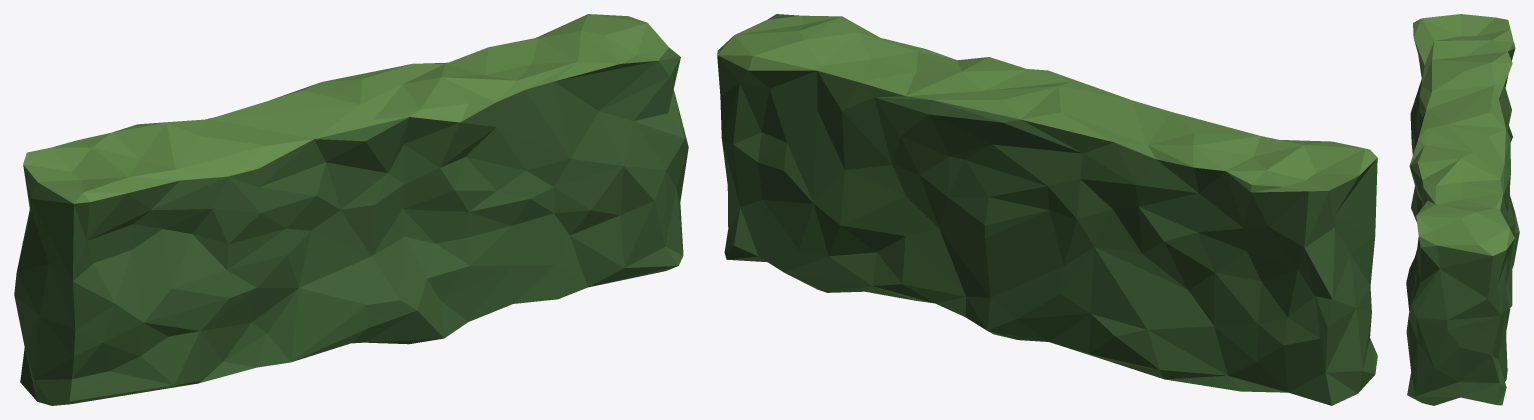
Rendered from SM_Env_Hedge_01.fbx.
The picture shows the model from 3 angles, left to right: view 1: azimuth 30°, elevation 25°; view 2: azimuth 150°, elevation 25°; view 3: azimuth 270°, elevation 25°; orthographic projection. The views are drawn at different scales.
Visible parts, largest first — view 1: SM_Env_Hedge_01; view 2: SM_Env_Hedge_01; view 3: SM_Env_Hedge_01.
Part boxes in pixels (x1=…): SM_Env_Hedge_01: x1=14, y1=14, x2=688, y2=405; SM_Env_Hedge_01: x1=717, y1=14, x2=1377, y2=405; SM_Env_Hedge_01: x1=1406, y1=14, x2=1519, y2=405.
Size of the model in its own units: 0.0539 by 0.0192 by 0.011.
1 material, 1 textured.
